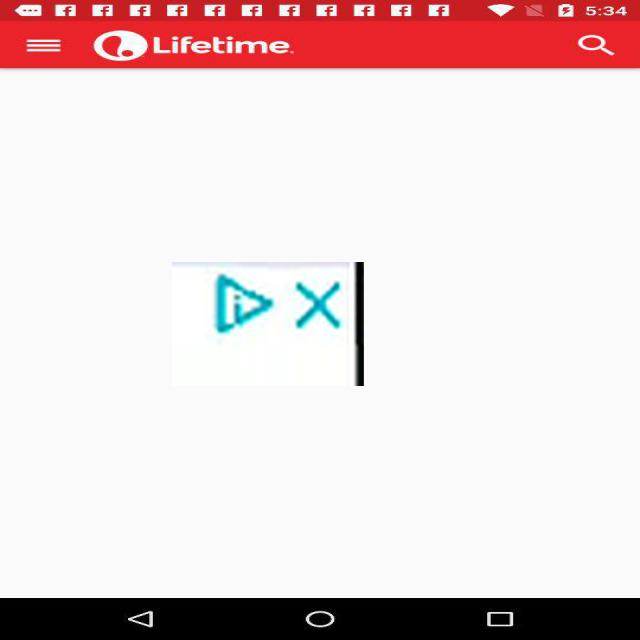sneaking: (172, 262, 364, 386)
